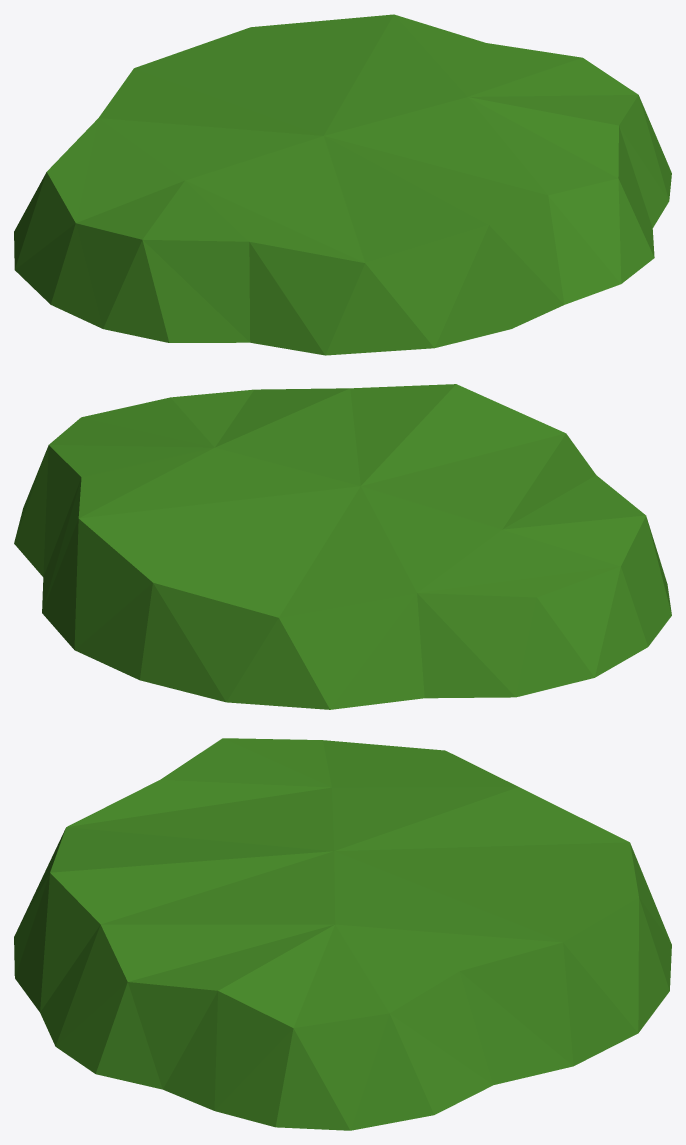
The model's file is um_grass002.FBX.
The picture shows the model from 3 angles, top to bottom: view 1: azimuth 30°, elevation 25°; view 2: azimuth 150°, elevation 25°; view 3: azimuth 270°, elevation 25°; orthographic projection. The views are drawn at different scales.
Visible parts, largest first — view 1: um_grass002; view 2: um_grass002; view 3: um_grass002.
Part boxes in pixels (x1,y1,x2,y2): um_grass002: (14,14,671,355); um_grass002: (14,384,671,709); um_grass002: (14,738,671,1130).
Bounding box in the file's own units: 1.3 × 0.2042 × 1.12.
